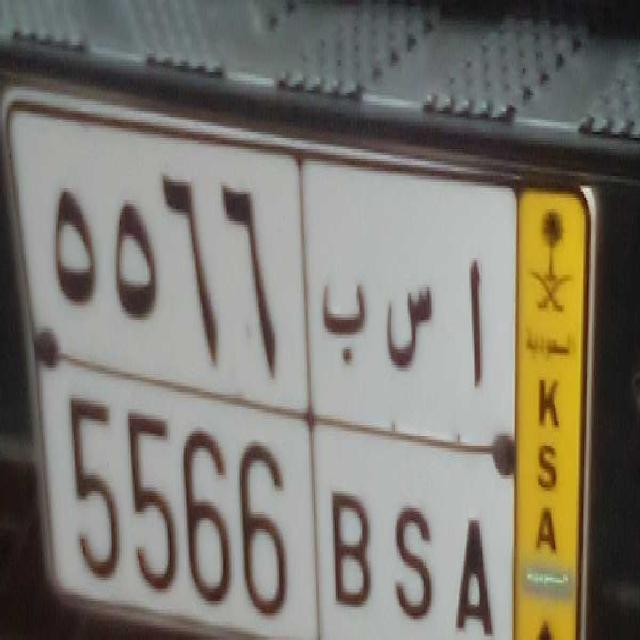license_plate: (51, 376, 497, 640)
